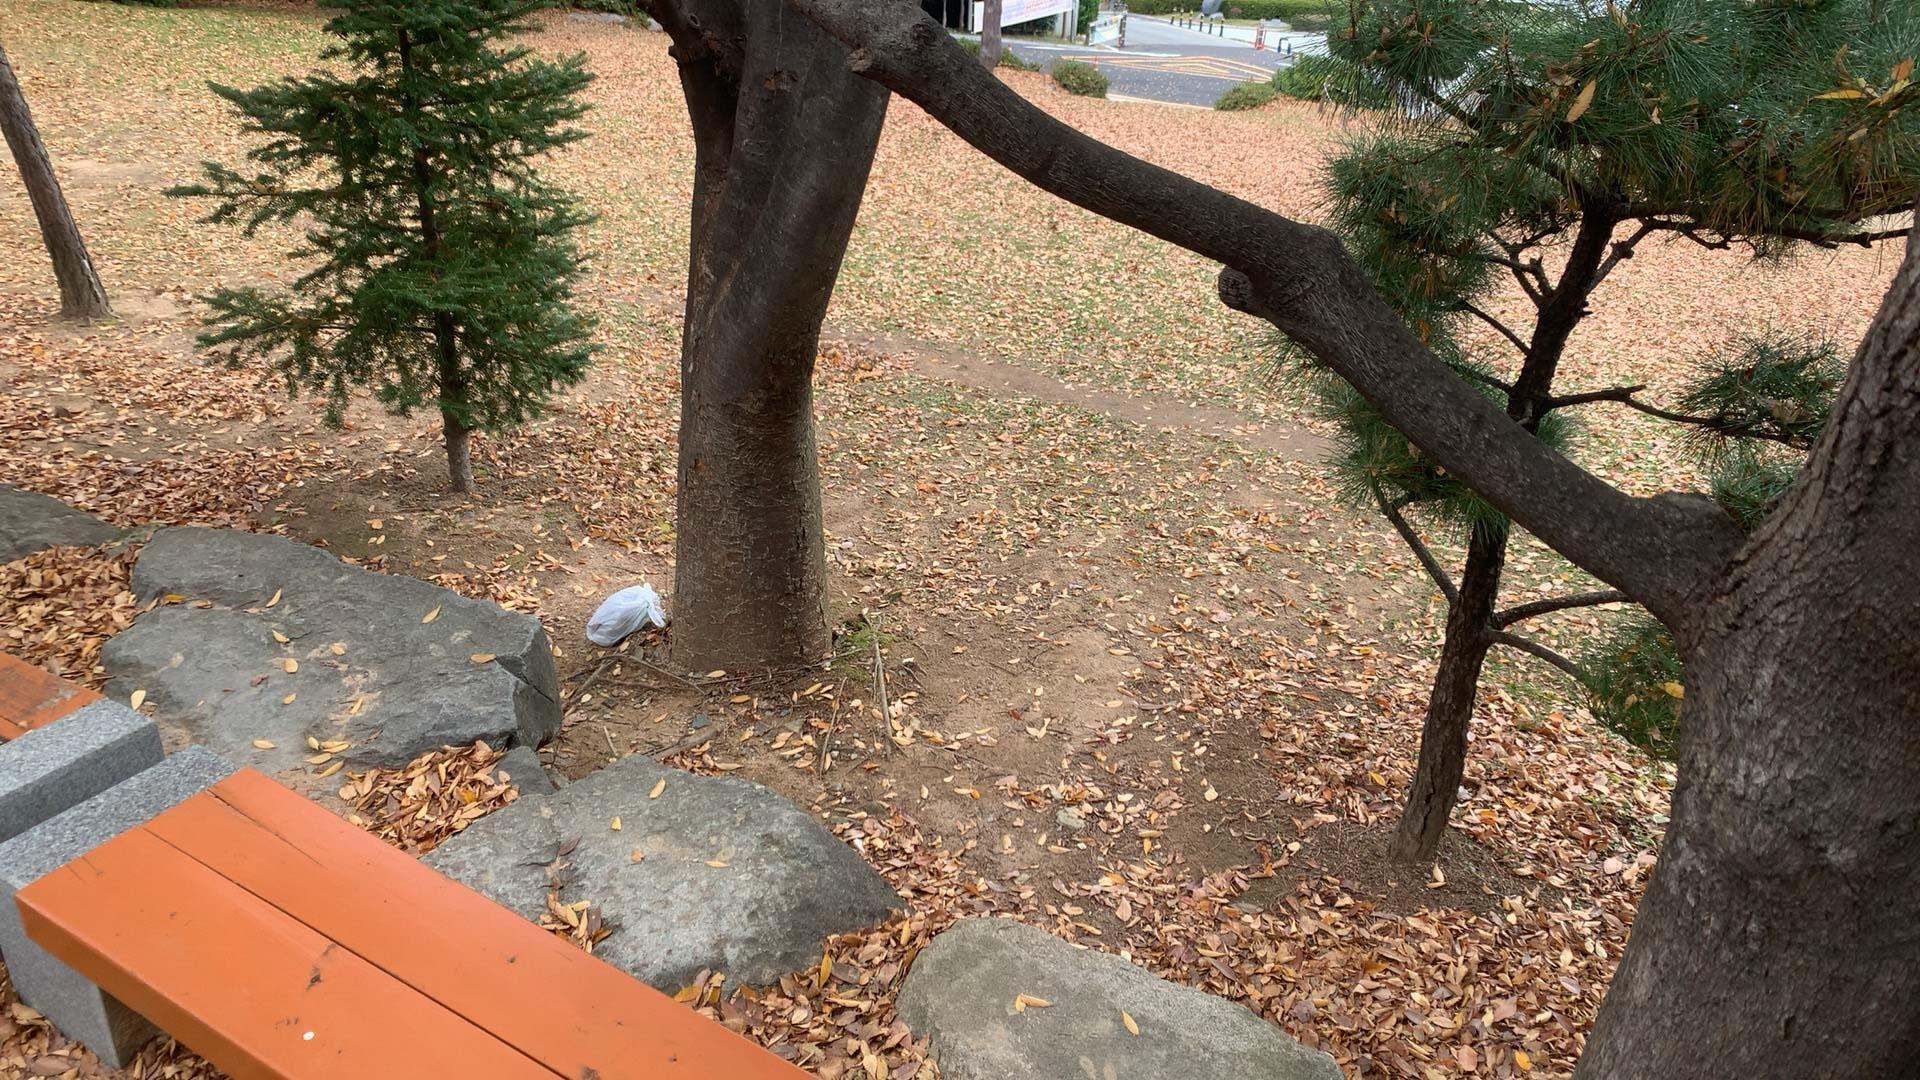white_bag: (574, 578, 669, 647)
